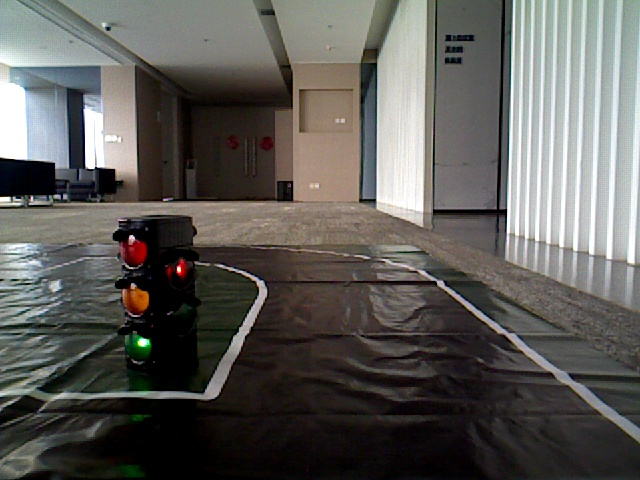green: (116, 223, 163, 359)
